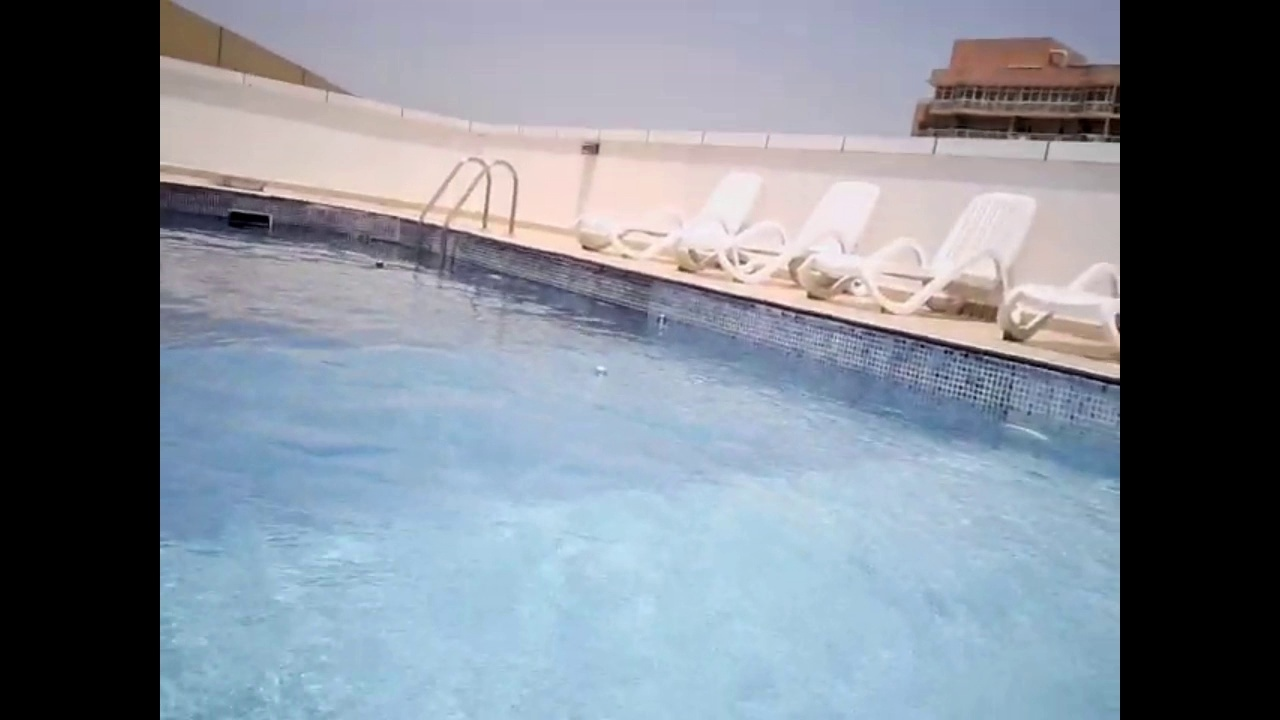debris: (650, 309, 670, 330), (591, 358, 610, 379), (372, 257, 386, 271)
